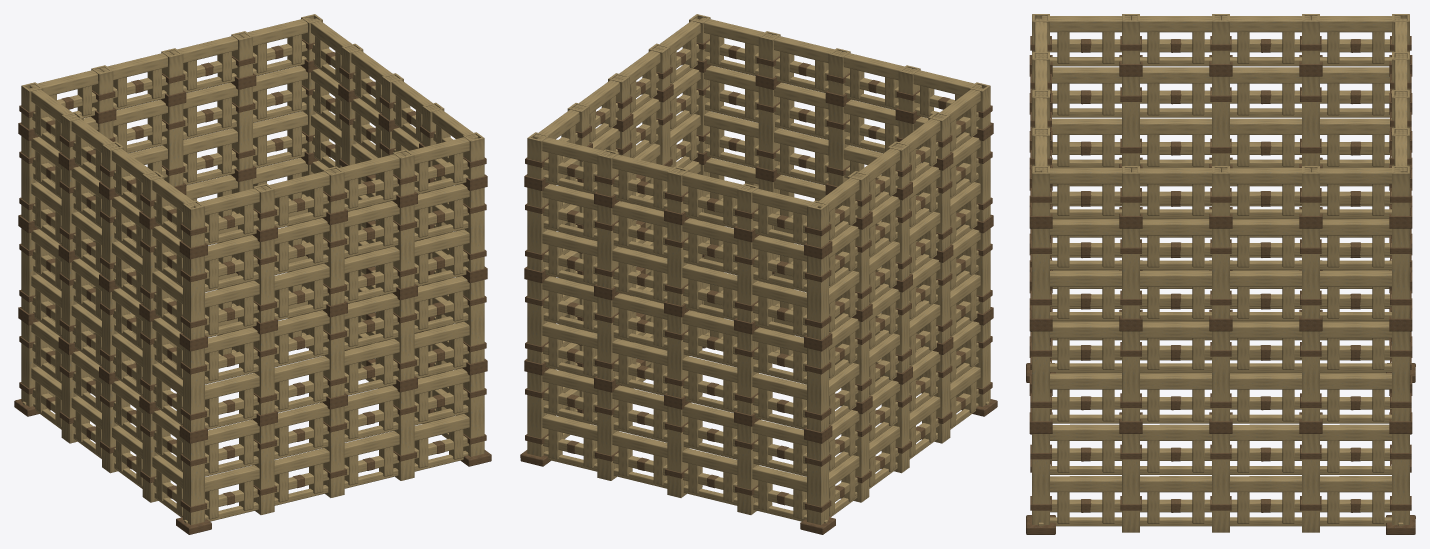
The picture shows the model from 3 angles, left to right: view 1: azimuth 30°, elevation 25°; view 2: azimuth 150°, elevation 25°; view 3: azimuth 270°, elevation 25°; orthographic projection. The views are drawn at different scales.
Parts seen in each view (by area): view 1: Tier 0 side 0 post 0, Tier 2 side 0 post 0, Tier 1 side 0 post 0, Tier 0 side 0 post 3, Tier 0 side 0 post 1, Tier 0 side 0 post 2, Tier 0 side 1 post 0, Tier 2 side 1 post 0, Tier 1 side 1 post 0, Tier 1 side 0 post 1, Tier 1 side 0 post 2, Tier 2 side 0 post 3 (+74 smaller); view 2: Tier 0 side 3 post 0, Tier 1 side 3 post 0, Tier 2 side 3 post 0, Tier 0 side 2 post 3, Tier 0 side 2 post 1, Tier 0 side 2 post 2, Tier 2 side 0 post 3, Tier 0 side 2 post 0, Tier 2 side 2 post 0, Tier 1 side 2 post 0, Tier 2 side 2 post 1, Tier 2 side 2 post 2 (+74 smaller); view 3: Tier 0 side 1 post 1, Tier 0 side 1 post 2, Tier 0 side 1 post 3, Tier 1 side 1 post 0, Tier 1 side 1 post 1, Tier 1 side 1 post 2, Tier 1 side 1 post 3, Tier 1 side 2 post 0, Tier 0 side 1 post 0, Tier 0 side 2 post 0, Tier 2 side 1 post 0, Tier 2 side 1 post 1 (+142 smaller).
Boxes of the visible parts, left/top/right/bottom form: Tier 0 side 0 post 0: left=183, top=439, right=204, bottom=524; Tier 2 side 0 post 0: left=183, top=254, right=204, bottom=339; Tier 1 side 0 post 0: left=183, top=347, right=204, bottom=431; Tier 0 side 0 post 3: left=393, top=389, right=414, bottom=480; Tier 0 side 0 post 1: left=253, top=423, right=274, bottom=514; Tier 0 side 0 post 2: left=323, top=406, right=344, bottom=497; Tier 0 side 1 post 0: left=463, top=372, right=484, bottom=456; Tier 2 side 1 post 0: left=463, top=187, right=484, bottom=271; Tier 1 side 1 post 0: left=463, top=280, right=484, bottom=363; Tier 1 side 0 post 1: left=253, top=331, right=274, bottom=414; Tier 1 side 0 post 2: left=323, top=314, right=344, bottom=397; Tier 2 side 0 post 3: left=393, top=204, right=414, bottom=288; Tier 0 side 3 post 0: left=807, top=439, right=828, bottom=524; Tier 1 side 3 post 0: left=807, top=346, right=828, bottom=431; Tier 2 side 3 post 0: left=807, top=254, right=828, bottom=339; Tier 0 side 2 post 3: left=737, top=423, right=758, bottom=514; Tier 0 side 2 post 1: left=597, top=389, right=618, bottom=480; Tier 0 side 2 post 2: left=667, top=406, right=689, bottom=497; Tier 2 side 0 post 3: left=758, top=86, right=779, bottom=170; Tier 0 side 2 post 0: left=527, top=372, right=548, bottom=456; Tier 2 side 2 post 0: left=527, top=187, right=548, bottom=271; Tier 1 side 2 post 0: left=527, top=280, right=548, bottom=363; Tier 2 side 2 post 1: left=597, top=204, right=618, bottom=288; Tier 2 side 2 post 2: left=667, top=222, right=688, bottom=305; Tier 0 side 1 post 1: left=1122, top=434, right=1139, bottom=532; Tier 0 side 1 post 2: left=1212, top=434, right=1229, bottom=532; Tier 0 side 1 post 3: left=1302, top=434, right=1319, bottom=532; Tier 1 side 1 post 0: left=1032, top=331, right=1049, bottom=421; Tier 1 side 1 post 1: left=1122, top=331, right=1139, bottom=421; Tier 1 side 1 post 2: left=1212, top=331, right=1229, bottom=421; Tier 1 side 1 post 3: left=1302, top=331, right=1319, bottom=421; Tier 1 side 2 post 0: left=1392, top=331, right=1409, bottom=421; Tier 0 side 1 post 0: left=1032, top=434, right=1049, bottom=524; Tier 0 side 2 post 0: left=1392, top=434, right=1409, bottom=524; Tier 2 side 1 post 0: left=1032, top=228, right=1049, bottom=318; Tier 2 side 1 post 1: left=1122, top=228, right=1139, bottom=318.
Bounding box in the file's own units: 1.95 × 1.98 × 1.95.
2 materials, 2 textured.
